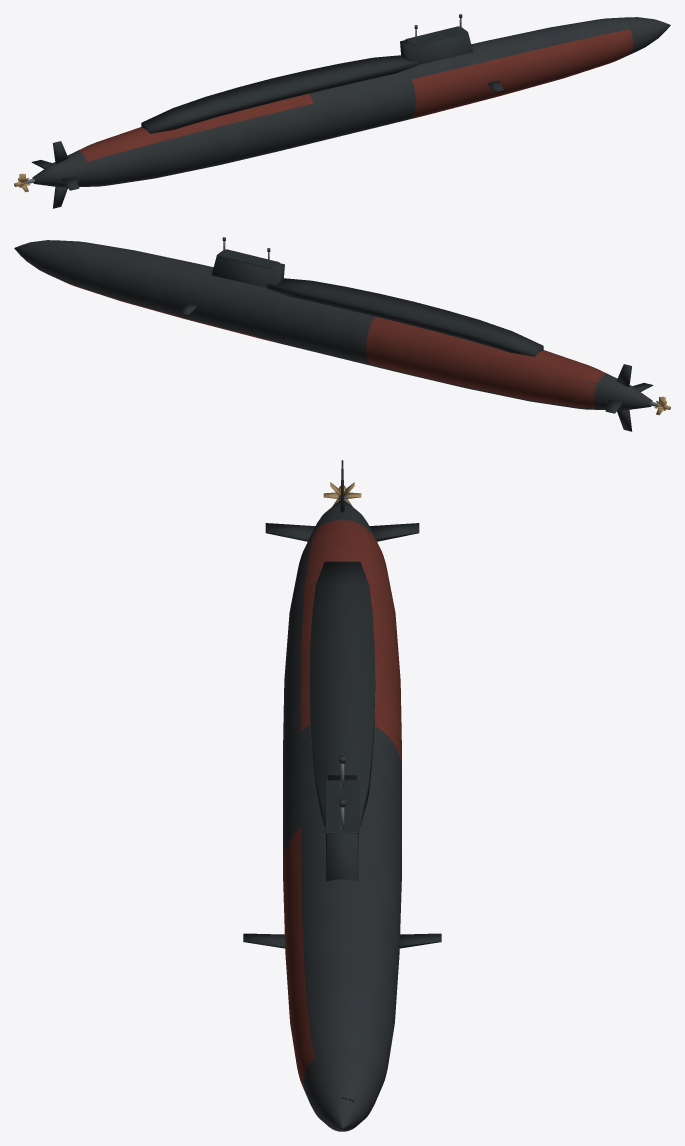
Rendered from US_SSBN_EthanAllen_LOD2.fbx.
3 renders of one model, top to bottom at view 1: azimuth 30°, elevation 25°; view 2: azimuth 150°, elevation 25°; view 3: azimuth 270°, elevation 25°, orthographic. The views are drawn at different scales.
Parts seen in each view (by area): view 1: US_SSBN_EthanAllen_LOD2; view 2: US_SSBN_EthanAllen_LOD2; view 3: US_SSBN_EthanAllen_LOD2.
Part boxes in pixels (x1=…): US_SSBN_EthanAllen_LOD2: x1=14, y1=14, x2=670, y2=208; US_SSBN_EthanAllen_LOD2: x1=14, y1=237, x2=670, y2=431; US_SSBN_EthanAllen_LOD2: x1=243, y1=460, x2=441, y2=1131.
Bounding box in the file's own units: 129 × 16.88 × 17.68.
6 materials, 1 textured.
